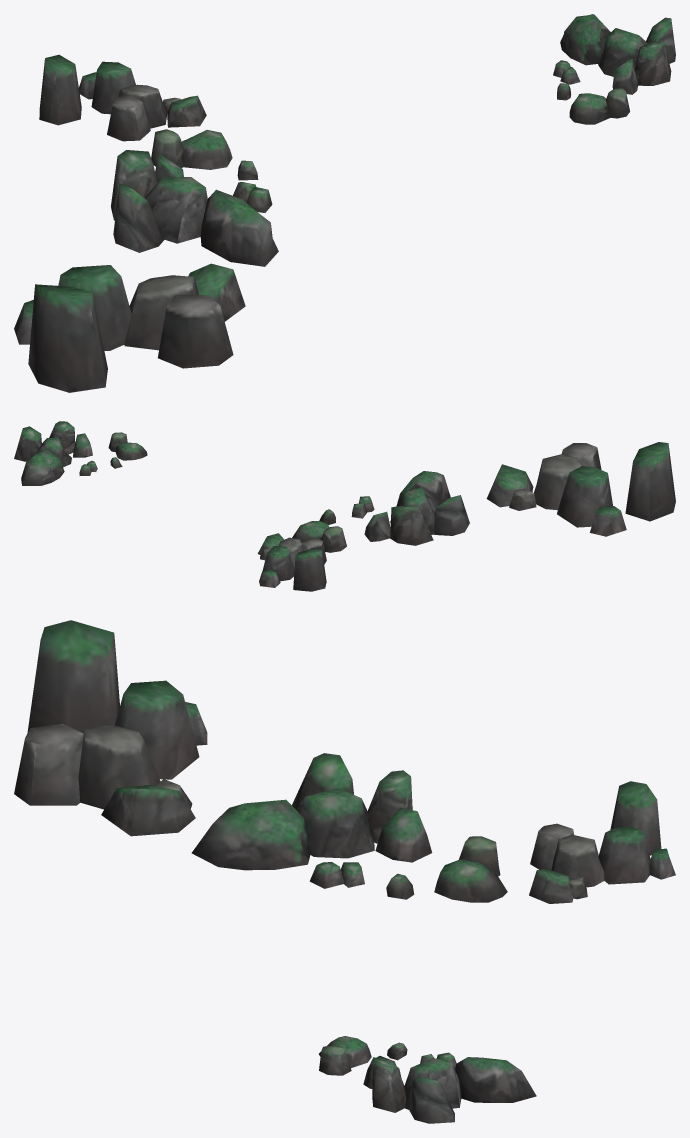
The model's file is Area_11_31.fbx.
3 views of the same model, one above another, from view 1: azimuth 30°, elevation 25°; view 2: azimuth 150°, elevation 25°; view 3: azimuth 270°, elevation 25° (orthographic). The views are drawn at different scales.
Visible parts, largest first — view 1: Area_11_31; view 2: Area_11_31; view 3: Area_11_31.
Boxes of the visible parts, x1=… form: Area_11_31: x1=14, y1=14, x2=675, y2=392; Area_11_31: x1=14, y1=421, x2=675, y2=591; Area_11_31: x1=14, y1=620, x2=675, y2=1123.
Size of the model in its own units: 4538 by 483 by 2984.
